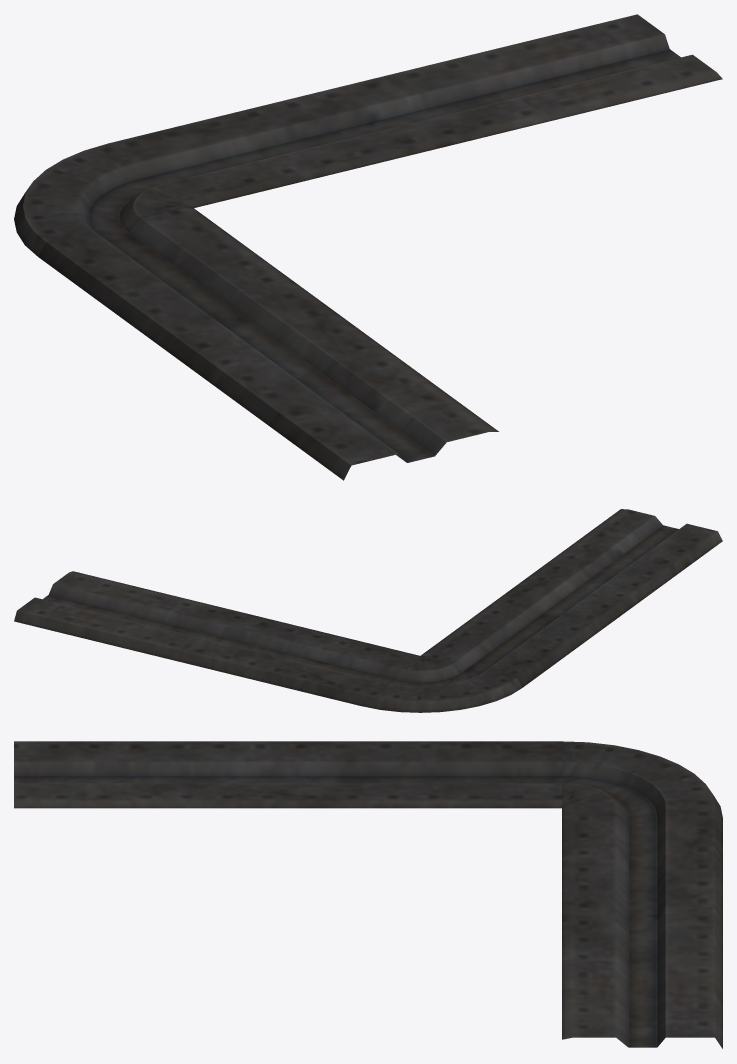
Rendered from lab_floor_welder_convex_short_noyellow.dae.
3 renders of one model, top to bottom at view 1: azimuth 30°, elevation 25°; view 2: azimuth 150°, elevation 25°; view 3: azimuth 270°, elevation 25°, orthographic. The views are drawn at different scales.
Visible parts, largest first — view 1: floor_welder_convex_short_noyellow; view 2: floor_welder_convex_short_noyellow; view 3: floor_welder_convex_short_noyellow.
Boxes of the visible parts, <box> form: floor_welder_convex_short_noyellow: <box>14,14,722,480</box>; floor_welder_convex_short_noyellow: <box>14,509,722,712</box>; floor_welder_convex_short_noyellow: <box>14,741,722,1048</box>.
Size of the model in its own units: 1.38 by 0.0254 by 1.38.
